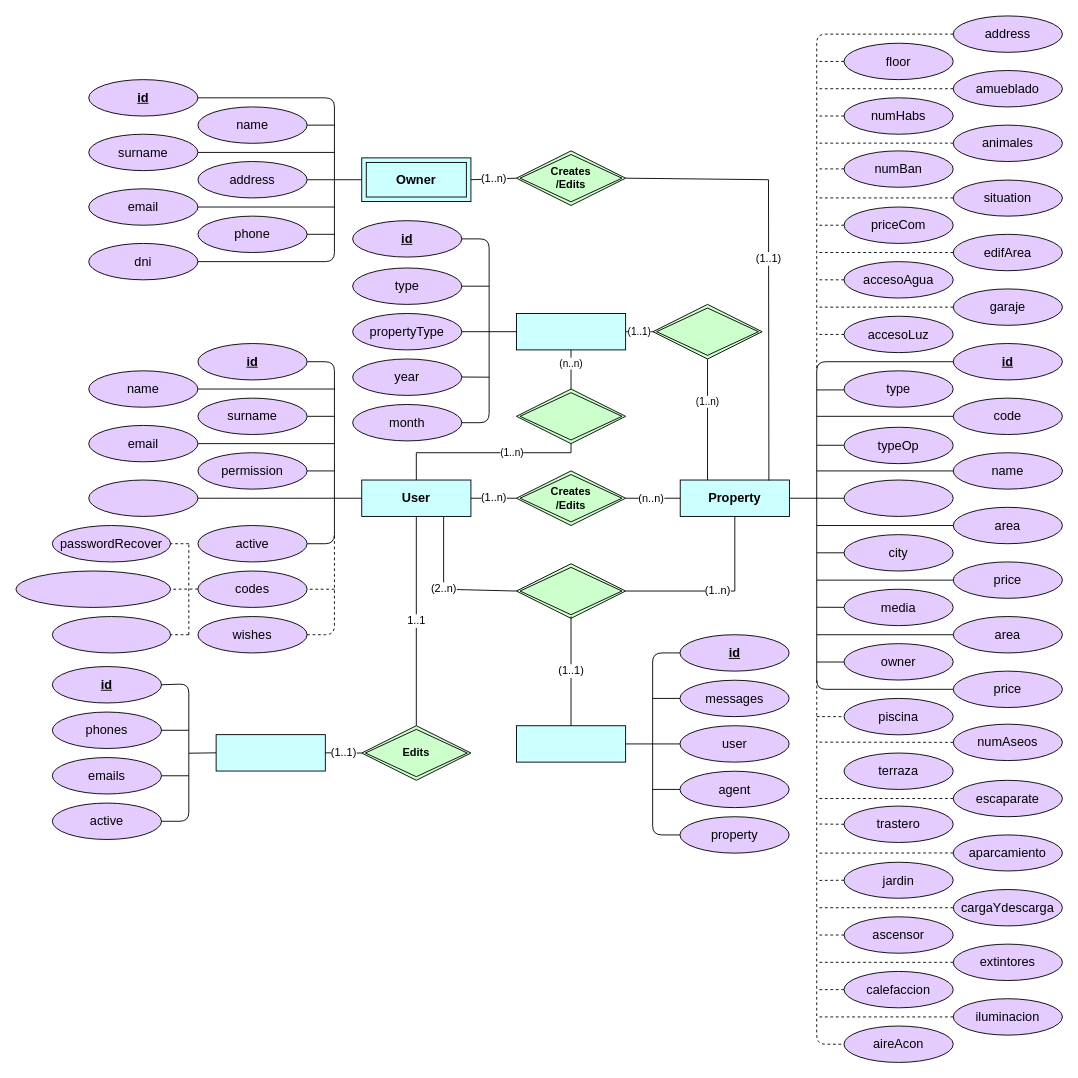
Image size: 1078x1078. Some labels were removed from this diagram. Here are the shapes that lost their labels. From the top down, the box of each, then its label:
(516, 313, 626, 350): Logger
(652, 303, 762, 359): References
(516, 388, 626, 444): Generates
(88, 479, 198, 516): password
(843, 479, 953, 516): description
(15, 570, 171, 607): passwordRecoverDate
(516, 563, 626, 618): Has
(51, 616, 171, 653): emailActivation
(215, 734, 325, 771): Info
(516, 725, 626, 762): Conversation
